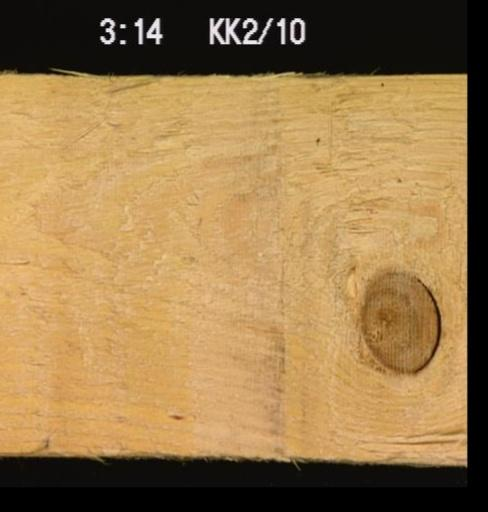dry_knot: (359, 268, 443, 374)
split: (358, 425, 461, 447)
